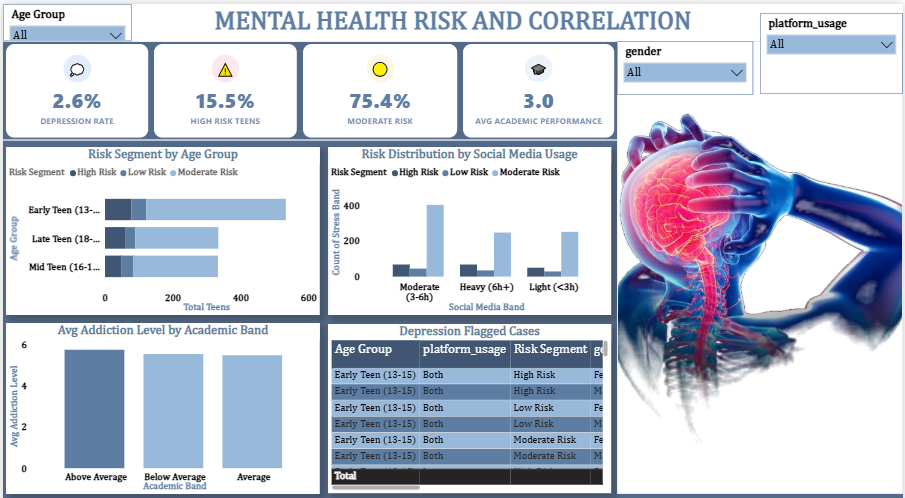

This screenshot's page, from the dashboard's own definition file:
{"tool":"powerbi","page":{"name":"RISK AND CORRELATION","canvas":[1500,840],"ordinal":1},"visuals":[{"type":"htmlContent443BE3AD55E043BF878BED274D3A6855","fields":{"content":["HTML.Depression Rate"]},"box":[0,61.7,246.7,178.3],"z":0},{"type":"textbox","box":[0,0,1500,61.7],"z":1000},{"type":"shape","box":[0,14.3,1280,94.3],"z":2000},{"type":"htmlContent443BE3AD55E043BF878BED274D3A6855","fields":{"content":["HTML.High Risk"]},"box":[246.7,61.7,248.3,176.7],"z":3000},{"type":"htmlContent443BE3AD55E043BF878BED274D3A6855","fields":{"content":["HTML.Moderate Risk"]},"box":[495,61.7,266.7,176.7],"z":4000},{"type":"htmlContent443BE3AD55E043BF878BED274D3A6855","fields":{"content":["HTML.Avg Academic"]},"box":[761.7,61.7,261.7,176.7],"z":5000},{"type":"shape","box":[0,150,1280,153.3],"z":6000},{"type":"clusteredColumnChart","title":"Risk Distribution by Social Media Usage","fields":{"Series":["Teen_Mental_Health_Dataset.Risk Segment"],"Category":["Teen_Mental_Health_Dataset.Social Media Band"],"Y":["CountNonNull(Teen_Mental_Health_Dataset.Stress Band)"]},"box":[541.7,238.3,471.7,280],"z":7000},{"type":"barChart","title":"Risk Segment by Age Group","fields":{"Category":["Teen_Mental_Health_Dataset.Age Group"],"Series":["Teen_Mental_Health_Dataset.Risk Segment"],"Y":["Measures Overview.Total Teens"]},"box":[5,238.3,523.3,280],"z":8000},{"type":"clusteredColumnChart","fields":{"Category":["Teen_Mental_Health_Dataset.Academic Band"],"Y":["Measures Overview.Avg Addiction Level"]},"box":[5,531.7,523.3,285],"z":9000},{"type":"tableEx","title":"Depression Flagged Cases","fields":{"Values":["Teen_Mental_Health_Dataset.Age Group","Teen_Mental_Health_Dataset.platform_usage","Teen_Mental_Health_Dataset.Risk Segment","Teen_Mental_Health_Dataset.gender","Sum(Teen_Mental_Health_Dataset.daily_social_media_hours)","Sum(Teen_Mental_Health_Dataset.sleep_hours)","Sum(Teen_Mental_Health_Dataset.stress_level)","Sum(Teen_Mental_Health_Dataset.anxiety_level)"]},"box":[541.7,533.3,471.7,281.7],"z":10000},{"type":"image","box":[1023.3,61.7,476.7,755],"z":12000},{"type":"slicer","fields":{"Values":["Teen_Mental_Health_Dataset.gender"]},"box":[1023.3,61.7,226.7,90],"z":14000},{"type":"slicer","fields":{"Values":["Teen_Mental_Health_Dataset.platform_usage"]},"box":[1261.7,15,238.3,135],"z":15000},{"type":"slicer","fields":{"Values":["Teen_Mental_Health_Dataset.Age Group"]},"box":[0,0,215,61.7],"z":16000}]}

Visuals, with their boxes in screenshot pixels (x1, y1, x2, y2), scaled from the page's 1500x840 canvas onto the 905x498 screenshot:
htmlContent443BE3AD55E043BF878BED274D3A6855 - HTML.Depression Rate: bbox(0, 37, 149, 142)
textbox: bbox(0, 0, 904, 37)
shape: bbox(0, 8, 772, 64)
htmlContent443BE3AD55E043BF878BED274D3A6855 - HTML.High Risk: bbox(149, 37, 299, 141)
htmlContent443BE3AD55E043BF878BED274D3A6855 - HTML.Moderate Risk: bbox(299, 37, 460, 141)
htmlContent443BE3AD55E043BF878BED274D3A6855 - HTML.Avg Academic: bbox(460, 37, 617, 141)
shape: bbox(0, 89, 772, 180)
"Risk Distribution by Social Media Usage" clusteredColumnChart: bbox(327, 141, 611, 307)
"Risk Segment by Age Group" barChart: bbox(3, 141, 319, 307)
clusteredColumnChart - Teen_Mental_Health_Dataset.Academic Band x Measures Overview.Avg Addiction Level: bbox(3, 315, 319, 484)
"Depression Flagged Cases" tableEx: bbox(327, 316, 611, 483)
image: bbox(617, 37, 904, 484)
slicer - Teen_Mental_Health_Dataset.gender: bbox(617, 37, 754, 90)
slicer - Teen_Mental_Health_Dataset.platform_usage: bbox(761, 9, 904, 89)
slicer - Teen_Mental_Health_Dataset.Age Group: bbox(0, 0, 130, 37)
